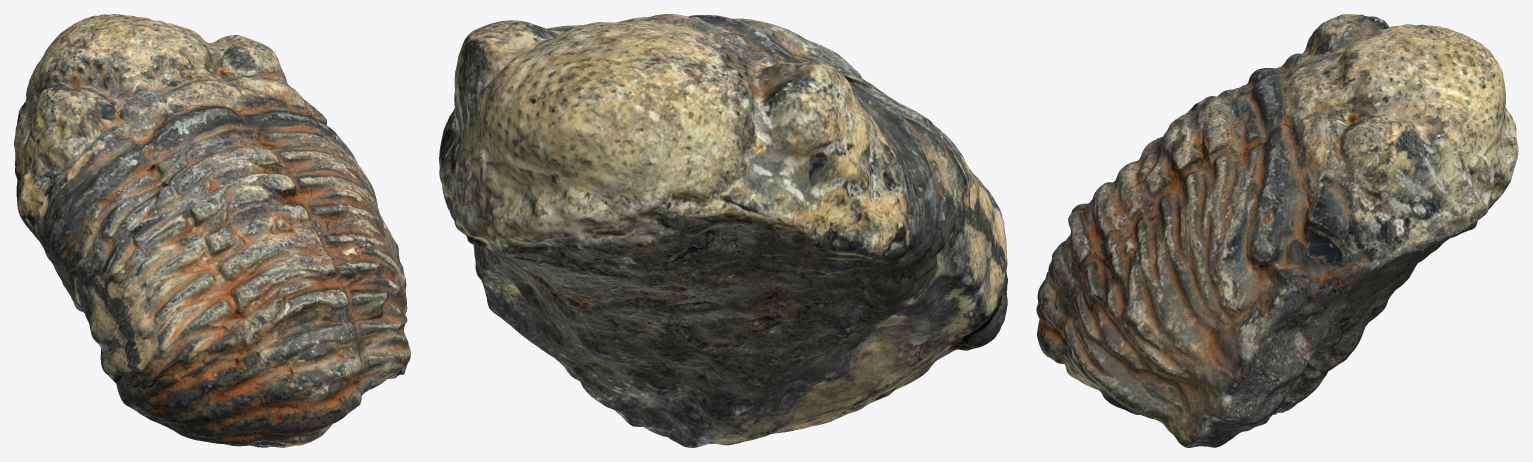
Rendered from MZUR3D-005.glb.
The picture shows the model from 3 angles, left to right: view 1: azimuth 30°, elevation 25°; view 2: azimuth 150°, elevation 25°; view 3: azimuth 270°, elevation 25°; orthographic projection. The views are drawn at different scales.
Parts seen in each view (by area): view 1: MZUR3D-005; view 2: MZUR3D-005; view 3: MZUR3D-005.
Part boxes in pixels (box(x1,y1,x2,y2)): MZUR3D-005: box(14, 14, 410, 447); MZUR3D-005: box(439, 14, 1007, 447); MZUR3D-005: box(1036, 14, 1518, 447).
Bounding box in the file's own units: 0.6429 × 0.6141 × 0.759.
Materials: 1 (1 with a texture image).
